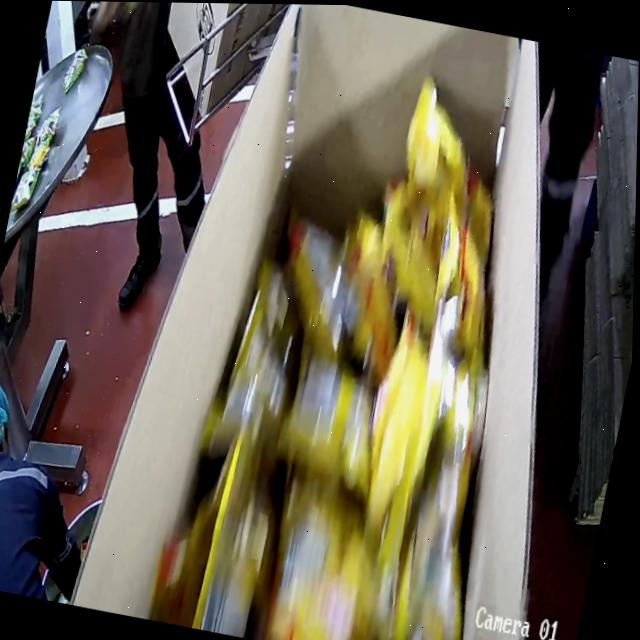SALTED: (172, 81, 539, 640)
